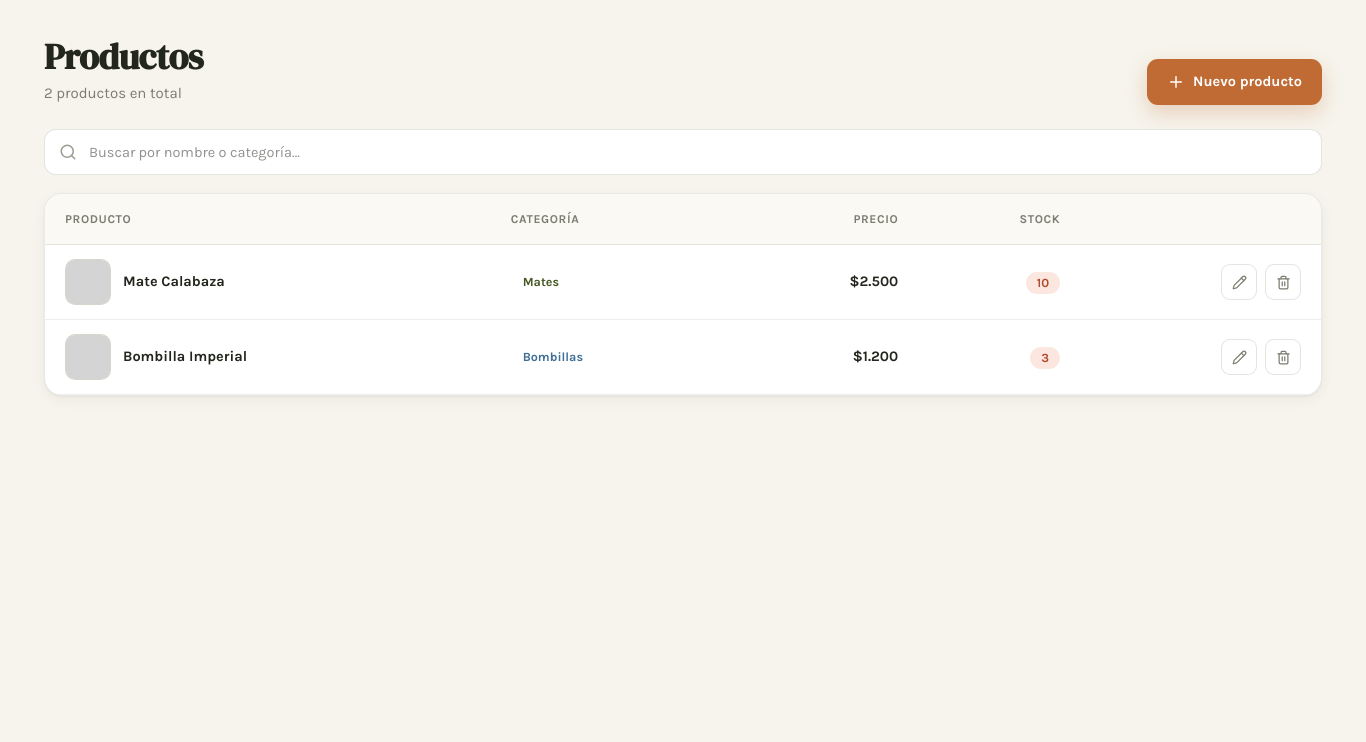
Test: AdminProducts › opens edit modal with product data when edit is clicked
Click the button titled "Editar" in the row of "Mate Calabaza".
click(1239, 282)  # box [1221,264,1257,300]
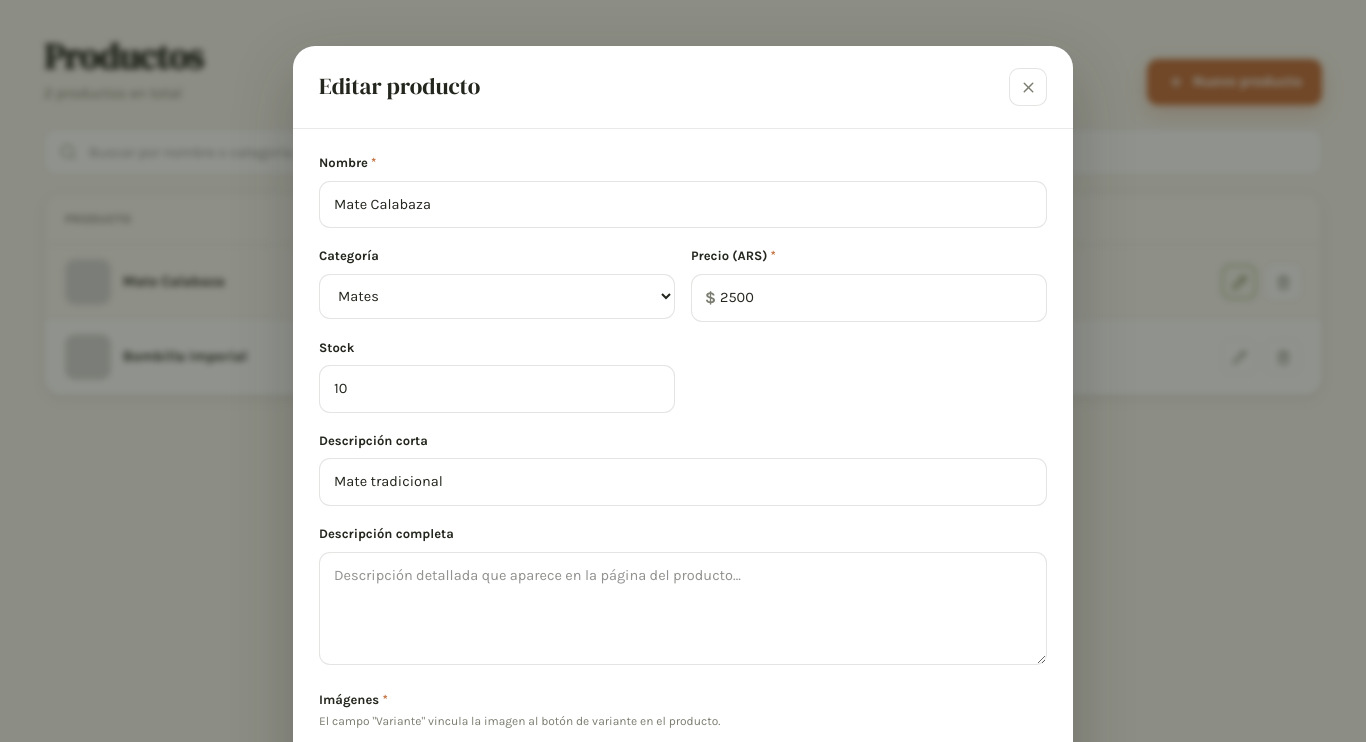
Now the heading "Editar producto" is shown, box [319,71,480,103]
Now the field showing "Mate Calabaza" below "Nombre" is shown, box [319,180,1047,228]
